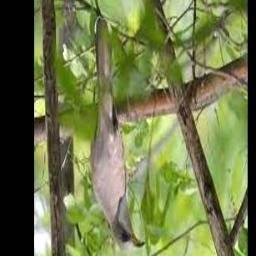Cuckoo: (90, 17, 145, 248)
